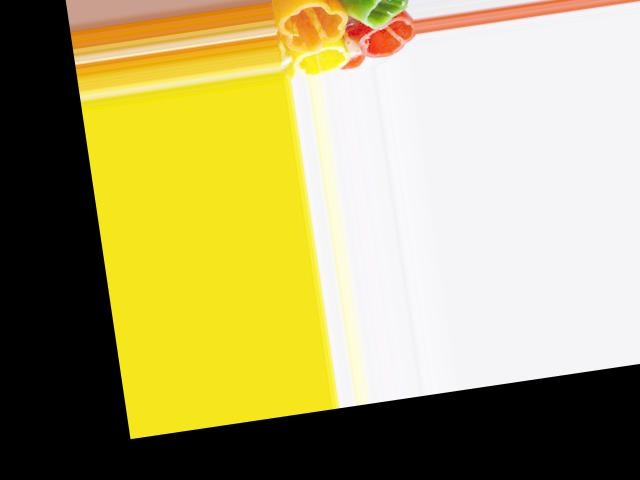bell_pepper: (355, 17, 416, 62)
